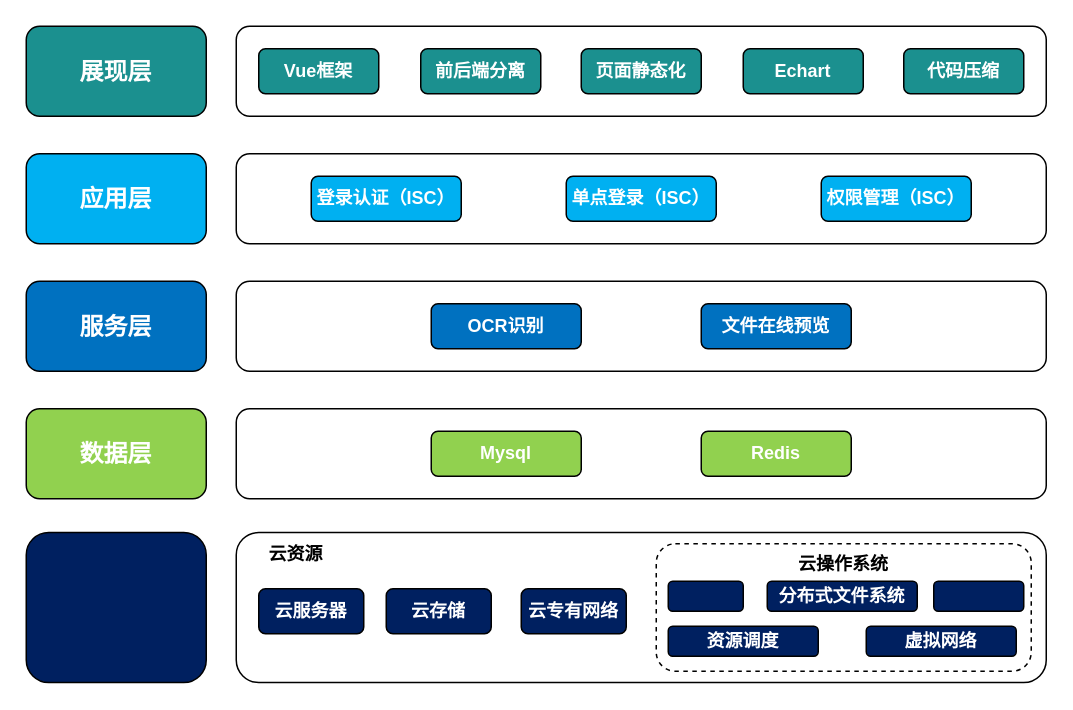
This 1073x710 diagram has some shape labels left out. Here are the shapes that lost their labels. From the top down, the centre of each, then its label:
the point at 115,606: 基础设施层
the point at 705,595: 容器
the point at 978,595: 资源编排
